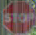Stop: (1, 1, 35, 31)
